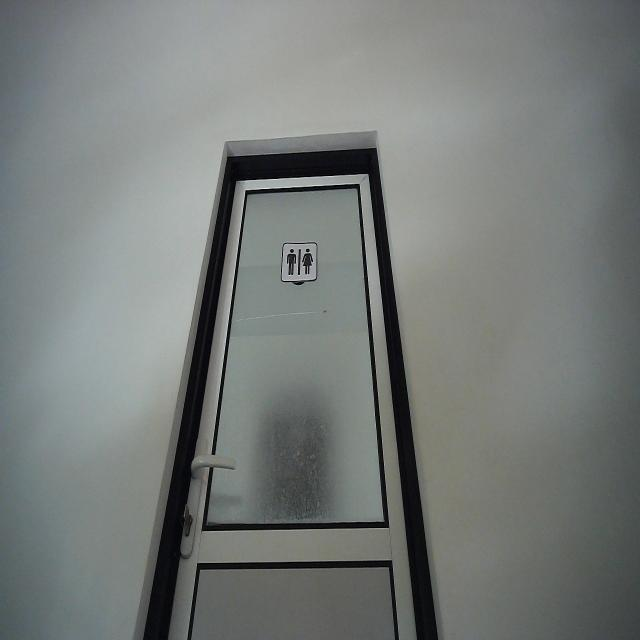restroom: (278, 240, 320, 286)
